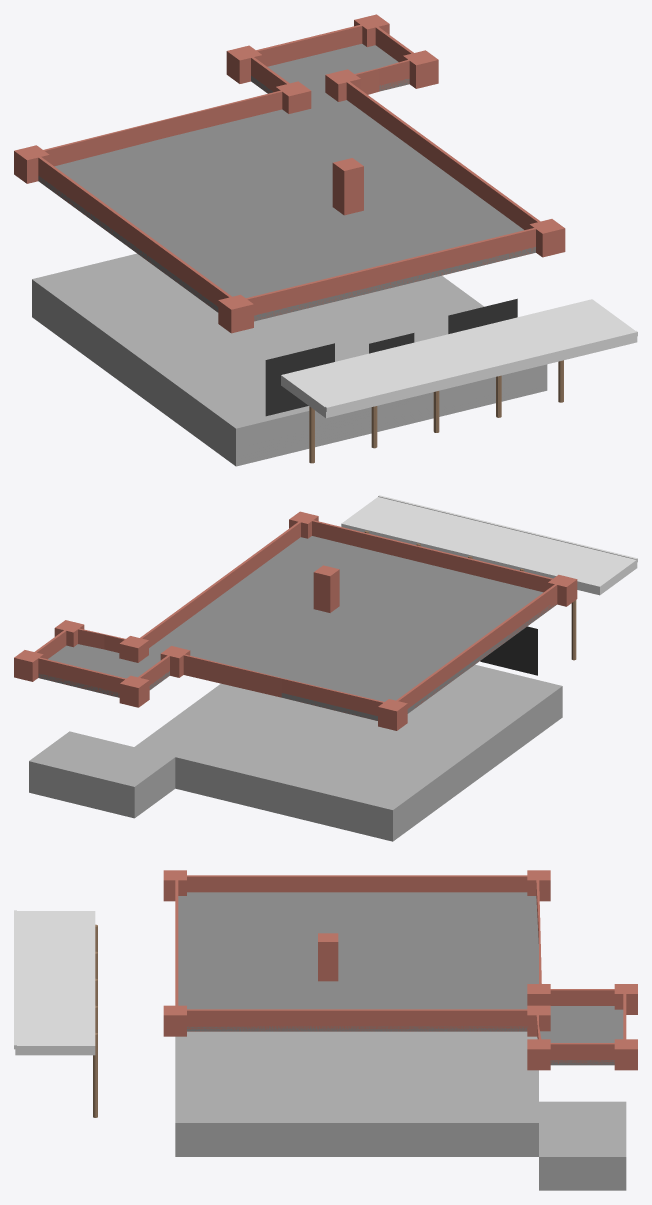
File: building_iter_002.glb
3 renders of one model, top to bottom at view 1: azimuth 30°, elevation 25°; view 2: azimuth 150°, elevation 25°; view 3: azimuth 270°, elevation 25°, orthographic. The views are drawn at different scales.
Visible parts, largest first — view 1: Roof_Slab, Foundation, Parapet, Canopy_Roof, Opening_Window_Left, Canopy_Beam, Chimney, Opening_Window_Right, Corner_Step_0_0, Corner_Step_3_0, Corner_Step_1_0, Corner_Step_5_0 (+4 smaller); view 2: Foundation, Roof_Slab, Parapet, Canopy_Roof, Opening_Window_Left, Chimney, Corner_Step_5_0, Corner_Step_7_0, Corner_Step_4_0, Canopy_Beam, Corner_Step_2_0, Corner_Step_0_0 (+1 smaller); view 3: Foundation, Roof_Slab, Parapet, Canopy_Roof, Chimney, Corner_Step_3_0, Corner_Step_1_0, Corner_Step_4_0, Corner_Step_2_0, Corner_Step_0_0, Corner_Step_7_0, Corner_Step_5_0 (+1 smaller).
Boxes of the visible parts, bbox=[...] form: Roof_Slab: bbox=[38, 44, 535, 321]; Foundation: bbox=[32, 253, 547, 466]; Parapet: bbox=[32, 22, 546, 321]; Canopy_Roof: bbox=[281, 299, 637, 418]; Opening_Window_Left: bbox=[265, 343, 334, 416]; Canopy_Beam: bbox=[325, 330, 637, 411]; Chimney: bbox=[332, 158, 363, 215]; Opening_Window_Right: bbox=[448, 298, 517, 333]; Corner_Step_0_0: bbox=[218, 294, 253, 333]; Corner_Step_3_0: bbox=[403, 50, 438, 88]; Corner_Step_1_0: bbox=[529, 219, 565, 257]; Corner_Step_5_0: bbox=[226, 45, 262, 83]; Foundation: bbox=[29, 664, 562, 841]; Roof_Slab: bbox=[38, 536, 556, 720]; Parapet: bbox=[29, 518, 561, 720]; Canopy_Roof: bbox=[341, 497, 637, 595]; Opening_Window_Left: bbox=[480, 626, 537, 675]; Chimney: bbox=[313, 565, 339, 612]; Corner_Step_5_0: bbox=[119, 675, 149, 707]; Corner_Step_7_0: bbox=[378, 699, 407, 730]; Corner_Step_4_0: bbox=[14, 650, 43, 681]; Canopy_Beam: bbox=[378, 495, 637, 562]; Corner_Step_2_0: bbox=[119, 636, 148, 662]; Corner_Step_0_0: bbox=[547, 574, 577, 606]; Foundation: bbox=[175, 1031, 626, 1190]; Roof_Slab: bbox=[178, 892, 623, 1065]; Parapet: bbox=[175, 875, 626, 1064]; Canopy_Roof: bbox=[15, 911, 95, 1055]; Chimney: bbox=[318, 933, 338, 981]; Corner_Step_3_0: bbox=[527, 1039, 550, 1070]; Corner_Step_1_0: bbox=[163, 1005, 186, 1036]; Corner_Step_4_0: bbox=[614, 1039, 637, 1070]; Corner_Step_2_0: bbox=[527, 1005, 550, 1036]; Corner_Step_0_0: bbox=[163, 870, 186, 901]; Corner_Step_7_0: bbox=[527, 870, 550, 901]; Corner_Step_5_0: bbox=[614, 984, 637, 1014].
Bounding box in the file's own units: 14.55 × 6.45 × 21.45.
